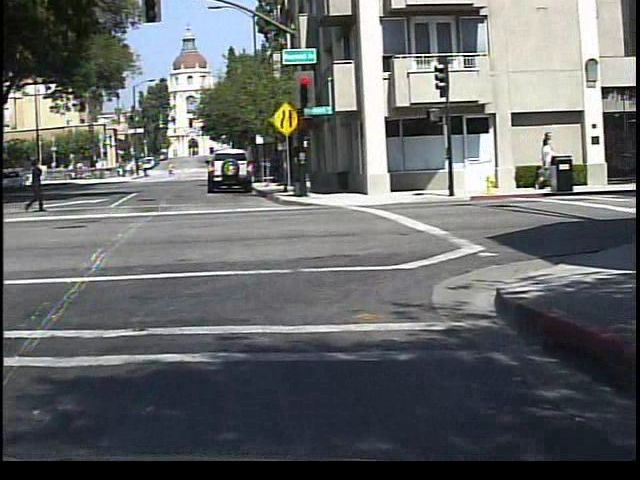person: (17, 157, 50, 216), (2, 168, 30, 229), (164, 160, 175, 179)
